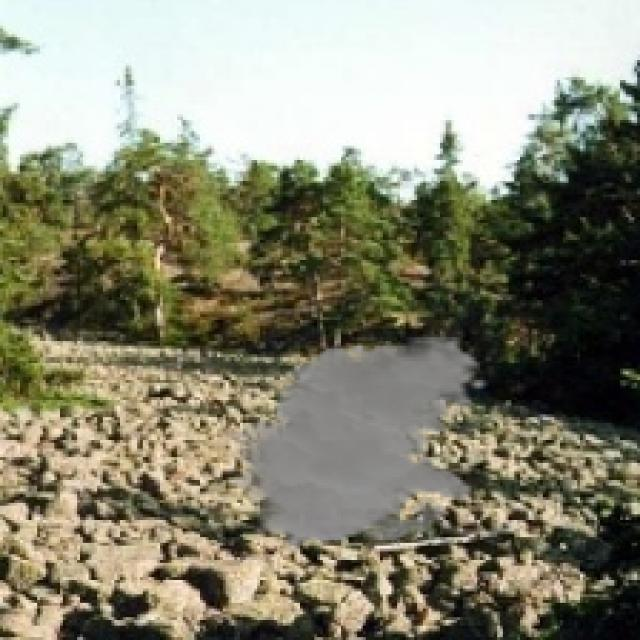smoke: (220, 334, 489, 549)
